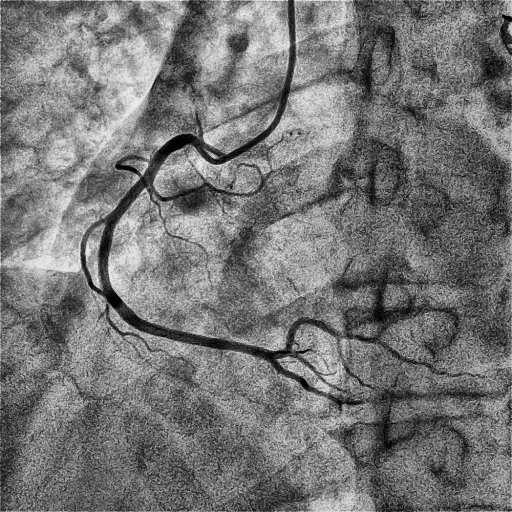pborca: (271, 317, 476, 377)
pda: (267, 359, 362, 404)
rca: (99, 134, 269, 359)
